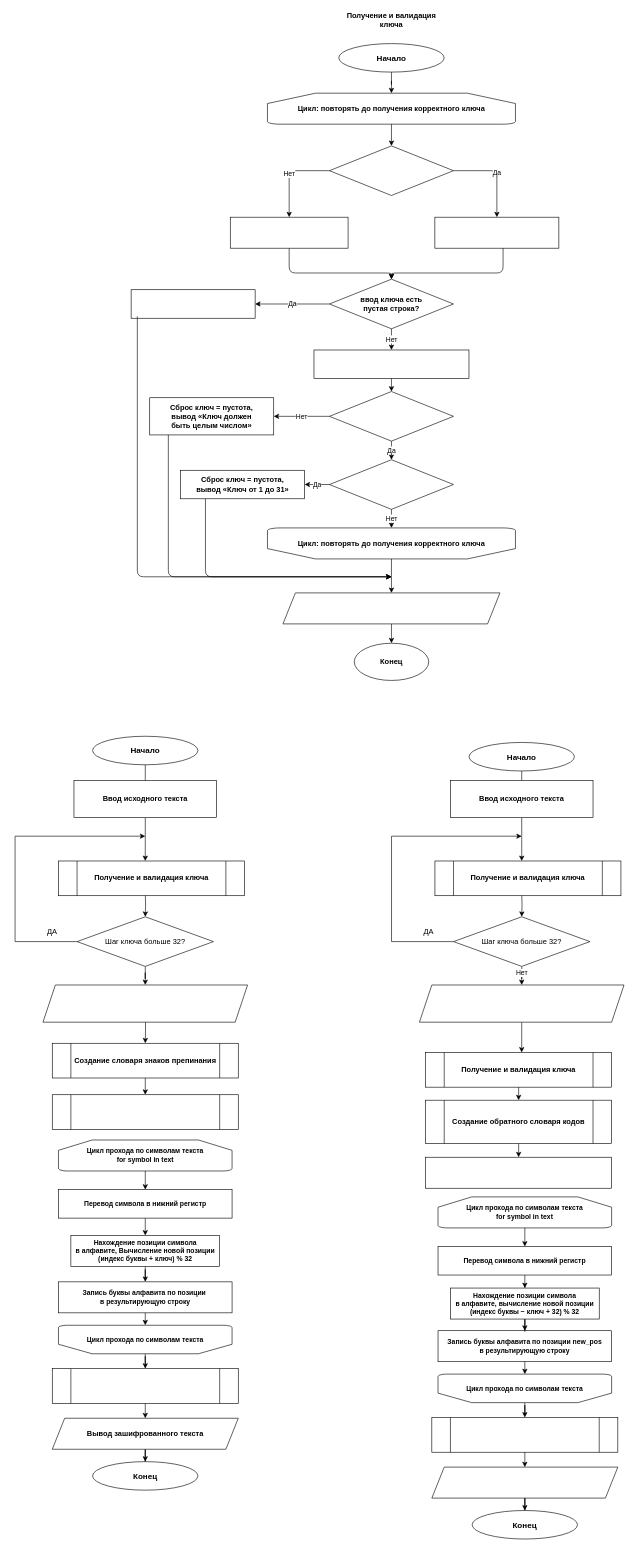
Image size: 636x1550. Some labels were removed from this diagram. Each missing label, with the centre of its shape:
"Ввод действия расшифрование" belongs at (x=521, y=1003).
"Ввод действия шифрование" belongs at (x=145, y=1003).
"Ввод значения ключа с клавиатуры" belongs at (x=289, y=232).
"Возврат корректного ключа" belongs at (x=391, y=608).
"Восстановление знаков препинания из кодов" belongs at (x=524, y=1434).
"Вывод расшифрованного текста" belongs at (x=524, y=1482).
"ключ меньше 1 или больше 31?" belongs at (x=391, y=484).
"Ключ передан в параметре?" belongs at (x=391, y=170).
"Подготовка текста к шифрованию" belongs at (x=145, y=1111).
"Преобразование в число успешно?" belongs at (x=391, y=416).
"Преобразование ввода ключа в целое число" belongs at (x=391, y=364).
"Преобразование переданного ключа в строку" belongs at (x=496, y=232).
"Разбивка на группы по 5 символов" belongs at (x=145, y=1385).
"Сброс key = None, вывод «Ключ не введён»" belongs at (x=193, y=303).
"Удаление пробелов из текста и перевод в нижний регистр" belongs at (x=518, y=1172).
